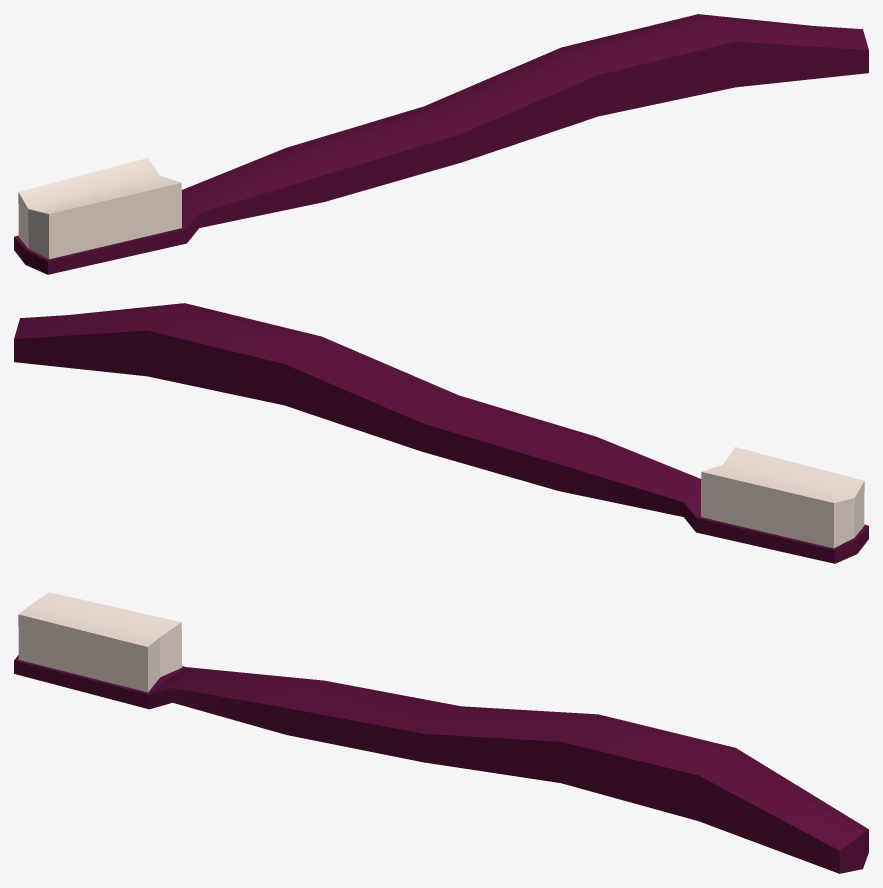
Rendered from Sem4_Prob_Zahnbürste_JT.fbx.
3 views of the same model, one above another, from view 1: azimuth 30°, elevation 25°; view 2: azimuth 150°, elevation 25°; view 3: azimuth 330°, elevation 25° (orthographic).
Visible parts, largest first — view 1: Zahnbürste; view 2: Zahnbürste; view 3: Zahnbürste.
Part boxes in pixels (bbox=[...]): Zahnbürste: bbox=[14, 14, 868, 274]; Zahnbürste: bbox=[14, 303, 868, 563]; Zahnbürste: bbox=[14, 592, 868, 873].
Size of the model in its own units: 19.32 by 1.77 by 1.5.
